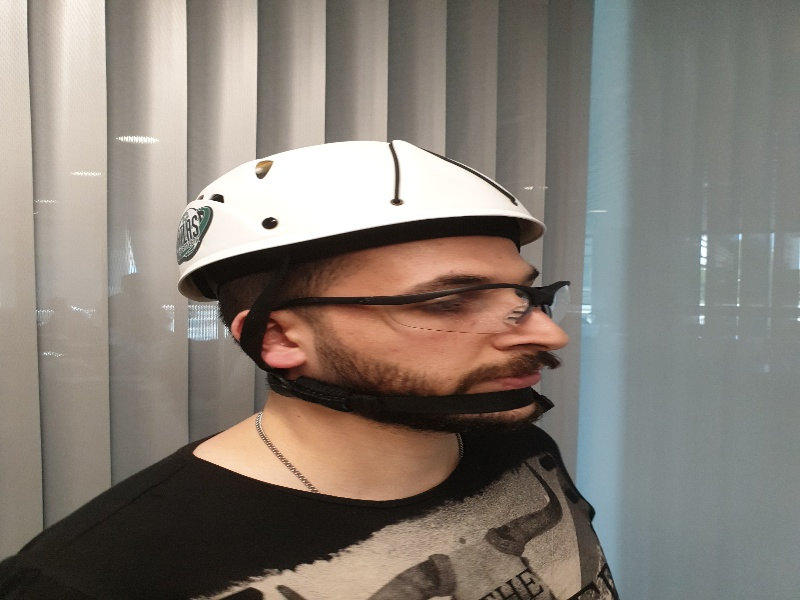Baret: (177, 140, 548, 272)
Gozluk: (287, 281, 573, 334)
